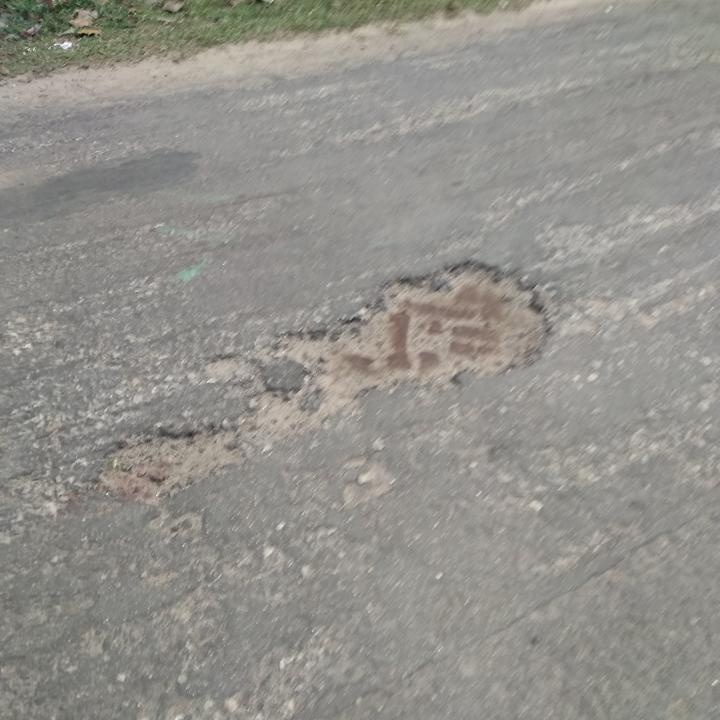pothole: (248, 251, 560, 442), (89, 418, 248, 506)
